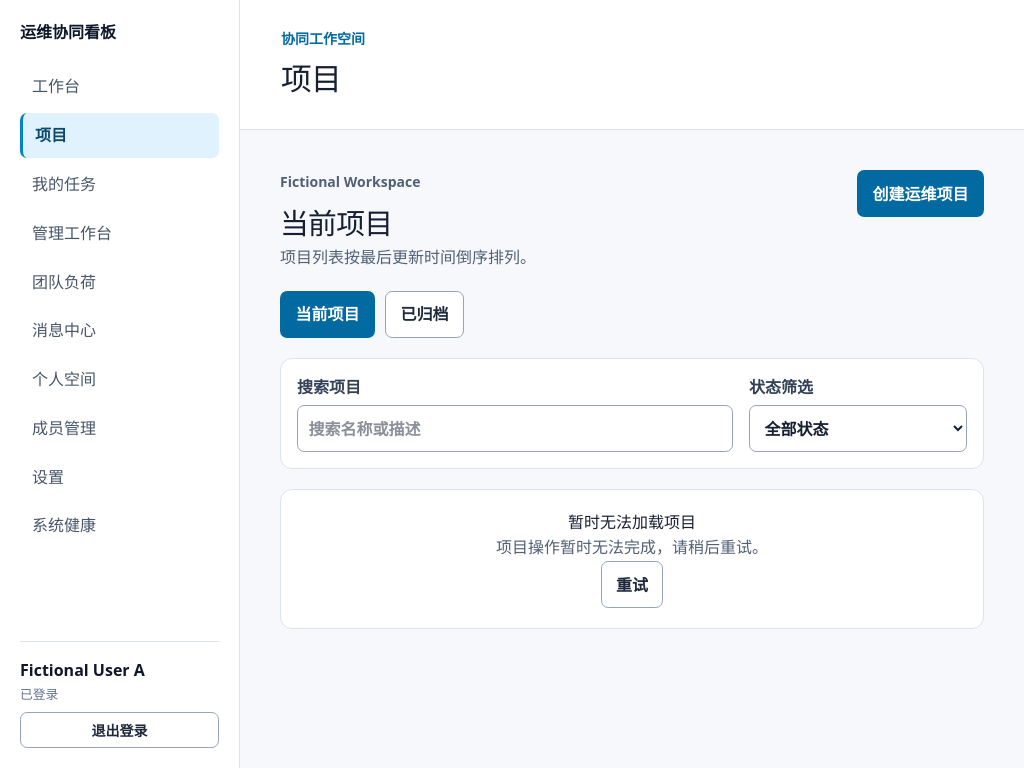
Scenario: 受保护路由 › 退出后受保护页面不可访问
Expected: the heading "项目" is shown, [281,57,341,99]
Click the button "退出登录" at (120, 730), box [20,712,219,748]
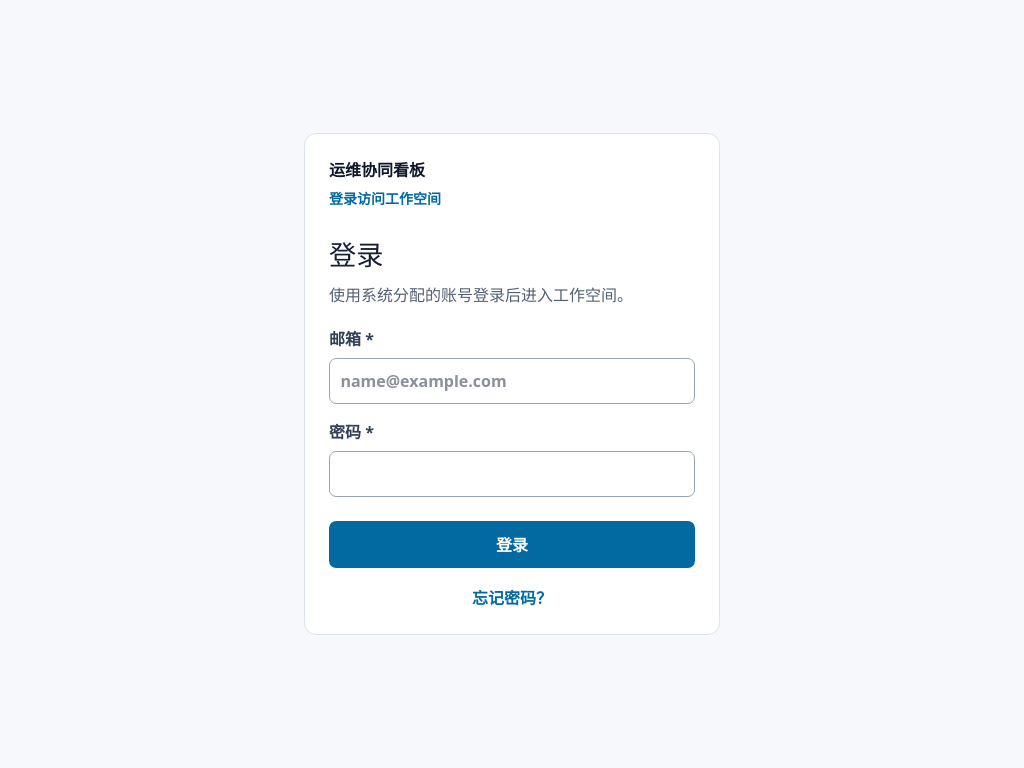
Now the heading "登录" is shown, box [329,236,383,273]
